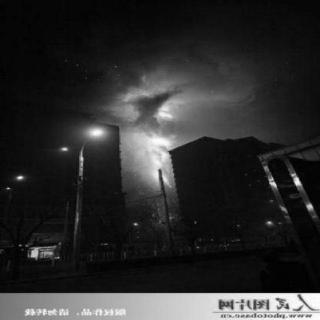Fire: (119, 75, 199, 193)
other: (83, 129, 107, 139), (16, 174, 26, 182)
